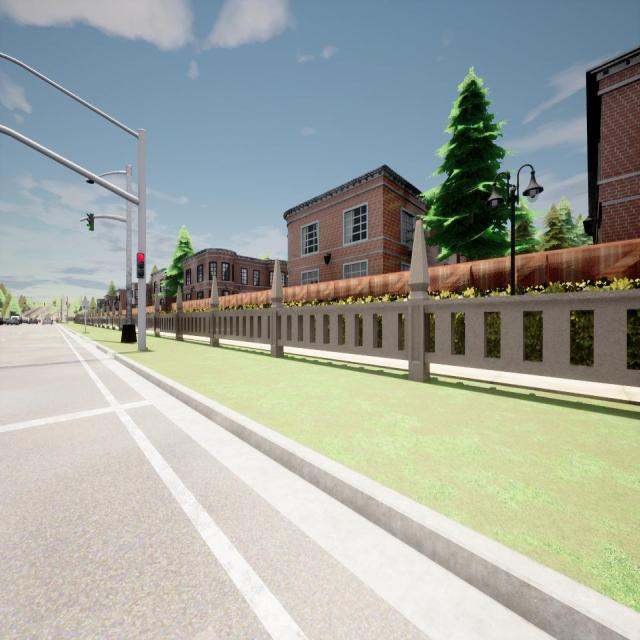Traffic_Signs: (82, 300, 90, 310)
Vehicle: (10, 316, 22, 324), (6, 319, 19, 326), (42, 317, 53, 325), (28, 318, 38, 325), (0, 317, 6, 325), (22, 318, 28, 324)
traffic_light: (137, 253, 144, 278), (86, 213, 94, 231), (44, 302, 45, 306), (66, 301, 67, 305), (60, 312, 61, 315), (34, 302, 34, 306)
